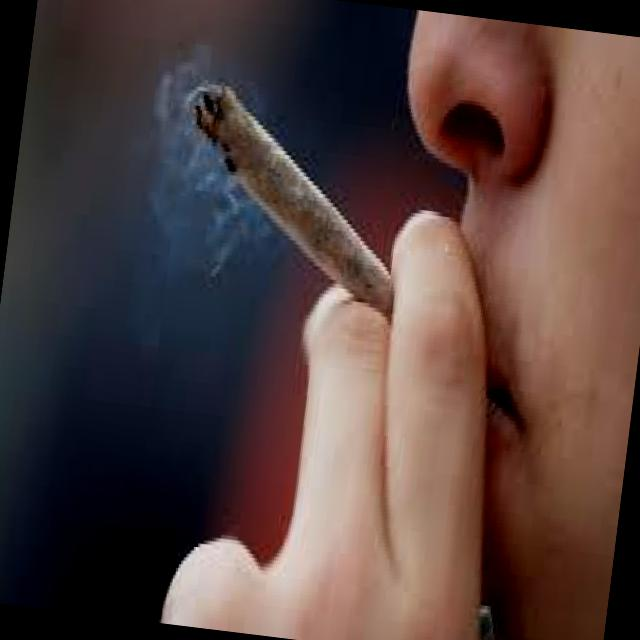cigarette: (168, 74, 418, 313)
